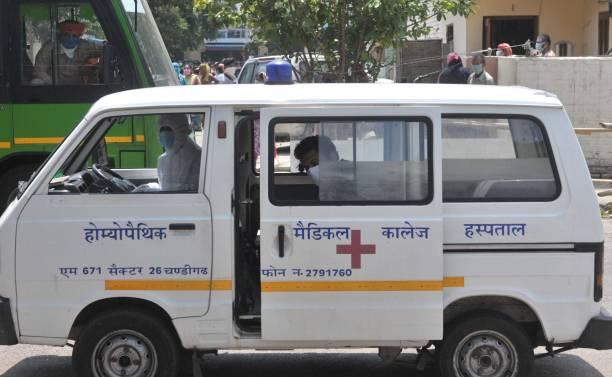ER: (0, 62, 612, 377)
